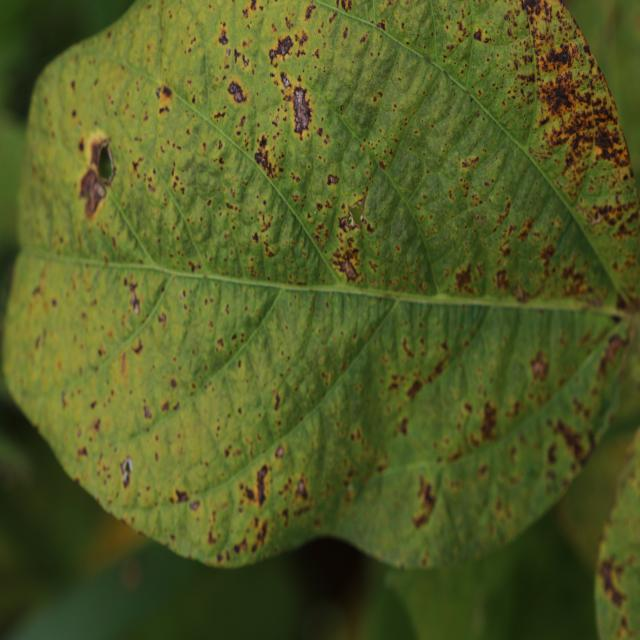Bacterial_Blight: (515, 0, 629, 195), (80, 130, 116, 223), (550, 416, 590, 462), (239, 463, 270, 509), (411, 475, 437, 529), (598, 557, 627, 603), (253, 138, 282, 180), (291, 86, 313, 135), (341, 192, 367, 232), (331, 248, 362, 281), (601, 333, 626, 369), (478, 400, 499, 441), (268, 34, 294, 65), (291, 476, 312, 512), (453, 262, 475, 295), (529, 350, 549, 382), (126, 278, 142, 316), (155, 84, 173, 113), (227, 80, 247, 105), (405, 377, 424, 402), (615, 291, 634, 313), (120, 456, 133, 488), (327, 174, 339, 185)
Soybean: (4, 0, 640, 567)
